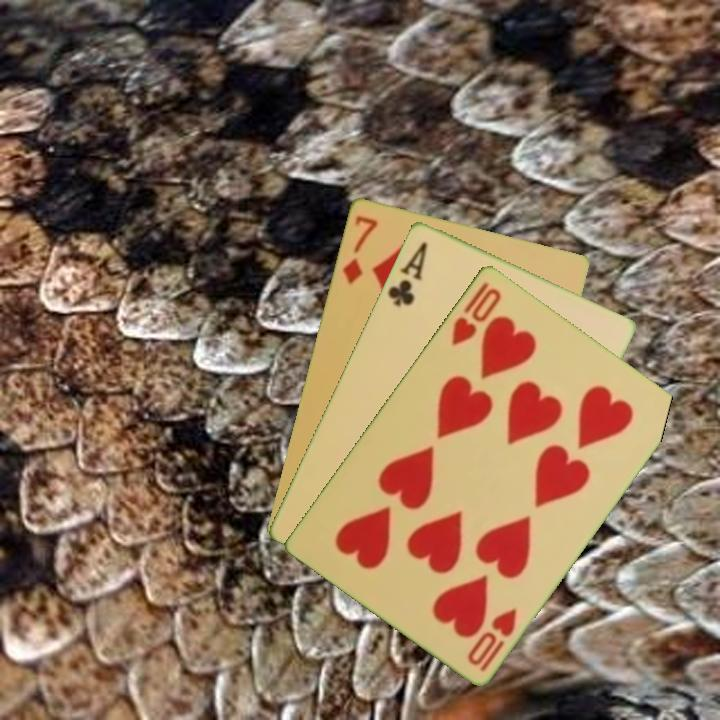10h: (463, 603, 520, 674), (447, 283, 504, 349)
7d: (338, 211, 380, 286)
Ac: (384, 238, 430, 309)
